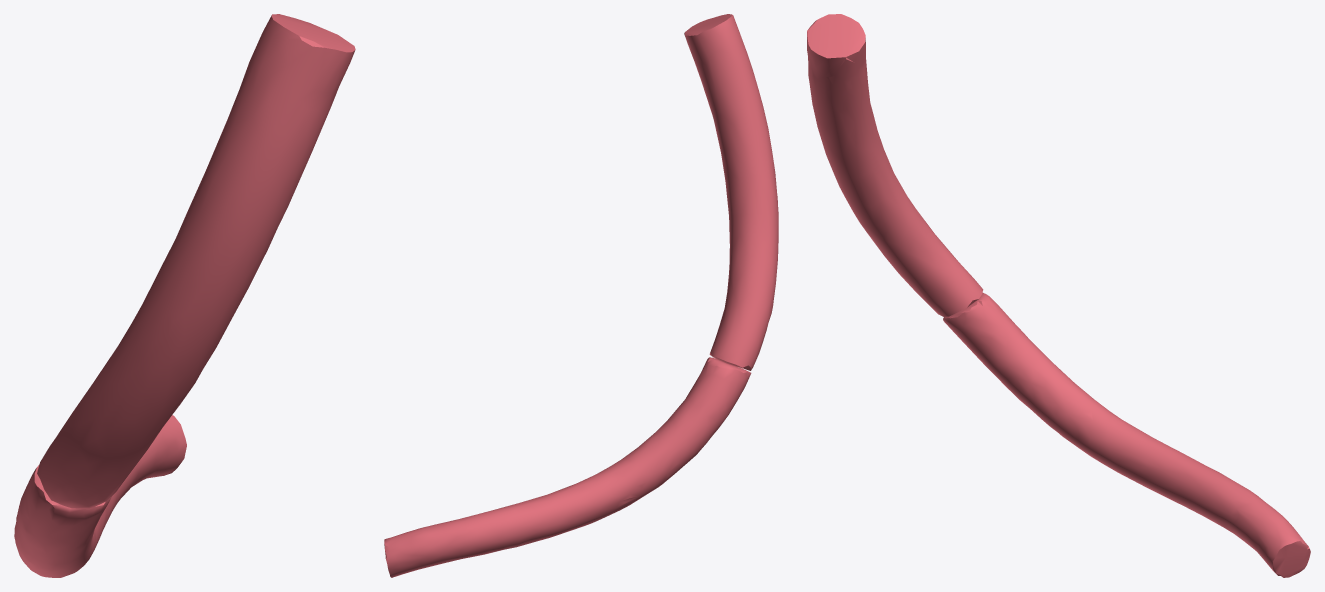
File: fma3802_cx58.glb
The picture shows the model from 3 angles, left to right: view 1: azimuth 30°, elevation 25°; view 2: azimuth 150°, elevation 25°; view 3: azimuth 270°, elevation 25°; orthographic projection. The views are drawn at different scales.
Visible parts, largest first — view 1: FMA3802_CX58; view 2: FMA3802_CX58; view 3: FMA3802_CX58.
Part boxes in pixels (x1=…): FMA3802_CX58: x1=14, y1=14, x2=355, y2=577; FMA3802_CX58: x1=384, y1=14, x2=778, y2=577; FMA3802_CX58: x1=807, y1=14, x2=1310, y2=577.
Bounding box in the file's own units: 0.0172 × 0.0323 × 0.03.
